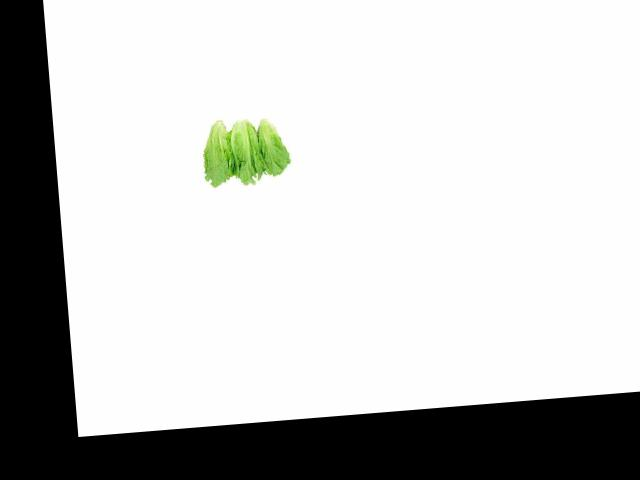lettuce: (250, 102, 292, 179)
